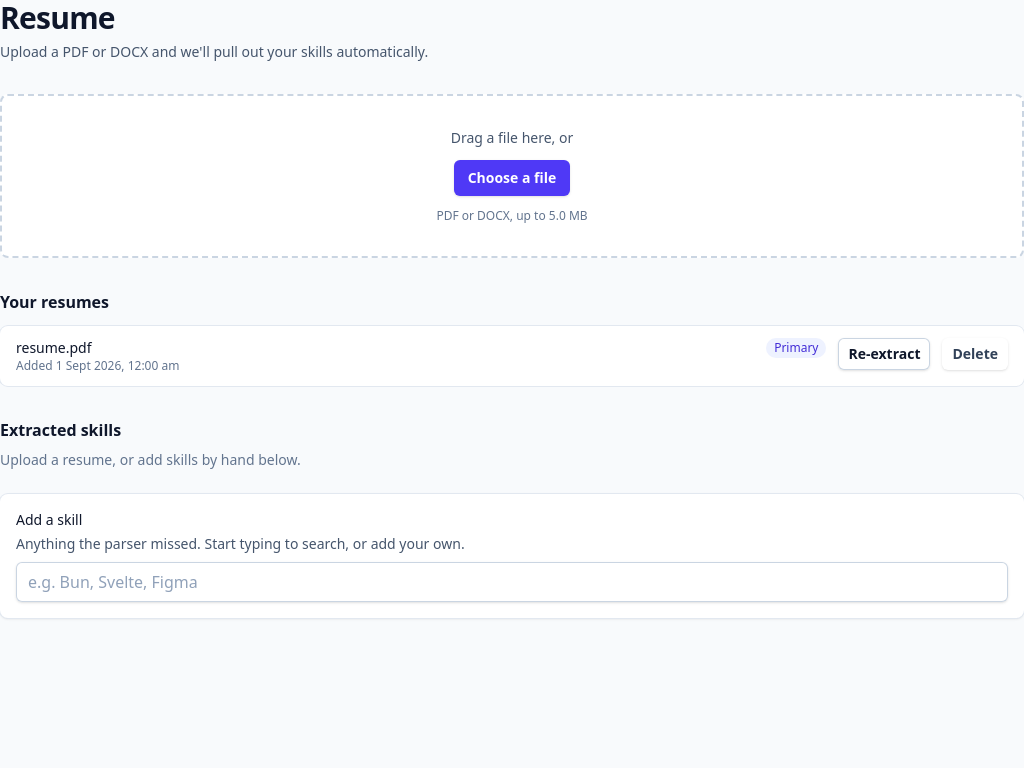
Test case: ResumePage › delete › shows a failure inside the dialog, where the user can see it
This screenshot has width=1024, height=768.
Click the button "Delete" at (975, 354), box top-left (942, 338), bottom-right (1008, 370)
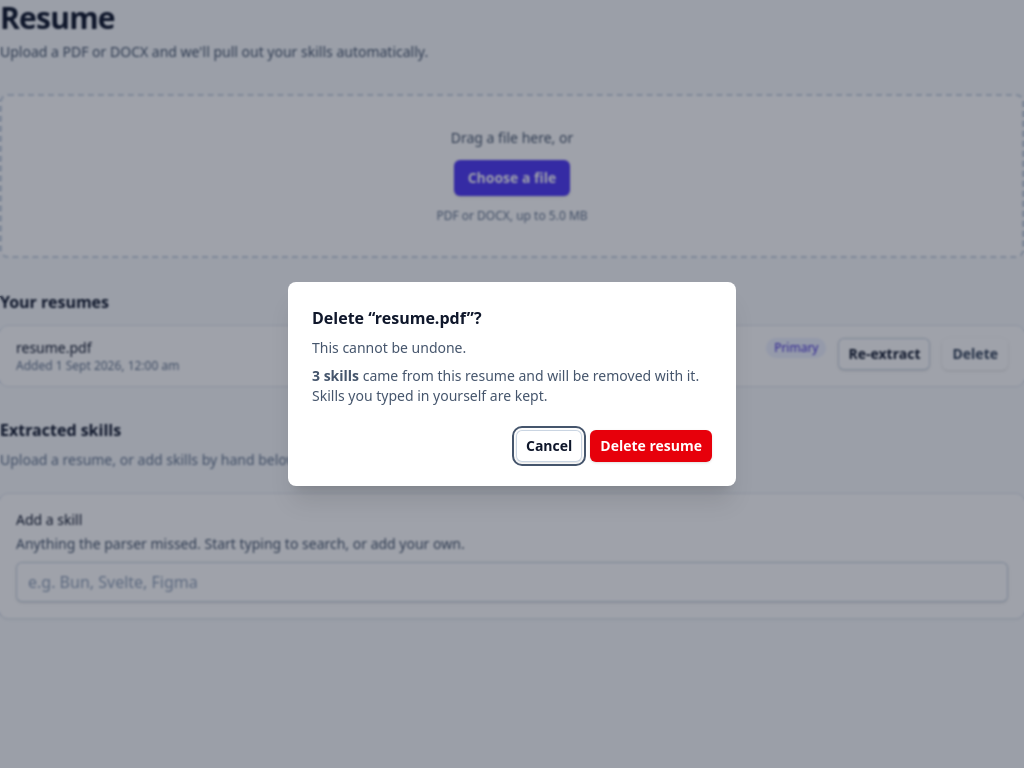
Click the button "Delete resume" at (651, 446), box top-left (590, 430), bottom-right (712, 462)
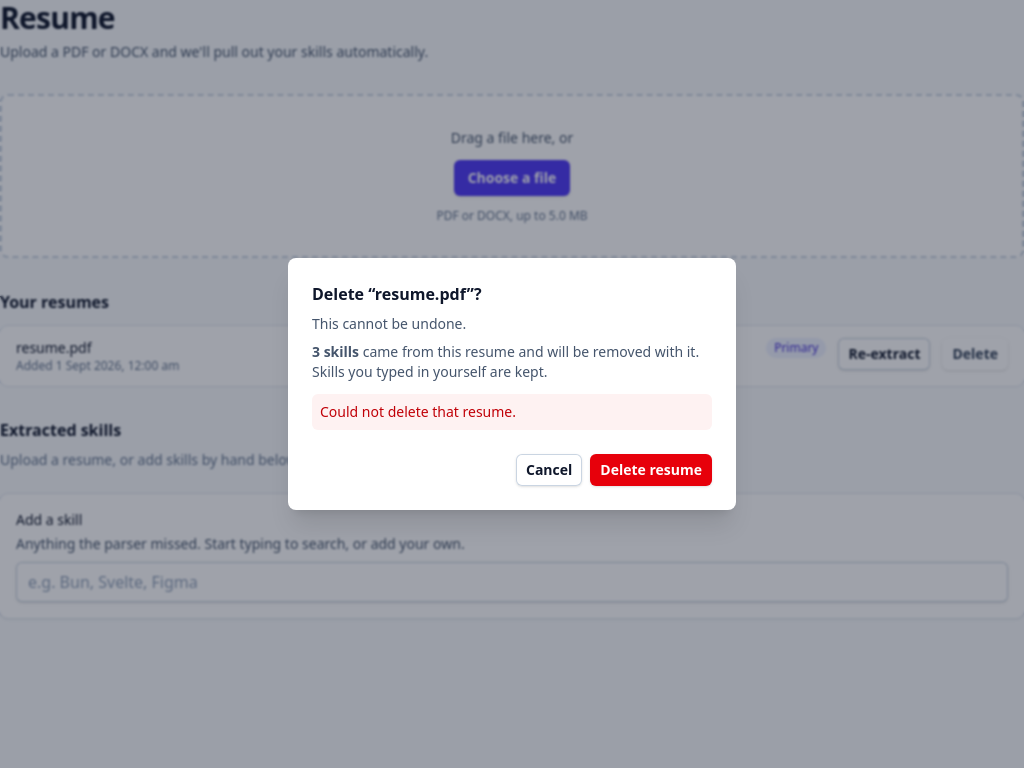
Check: the message reads "Could not delete that resume.", box top-left (320, 402), bottom-right (516, 421)
